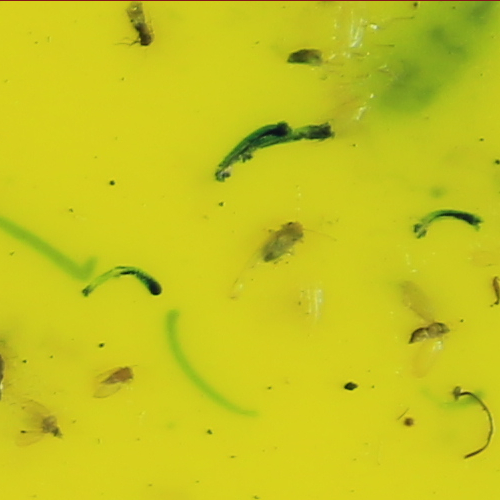psylla: (254, 218, 306, 266), (406, 318, 449, 344), (102, 361, 140, 385)
